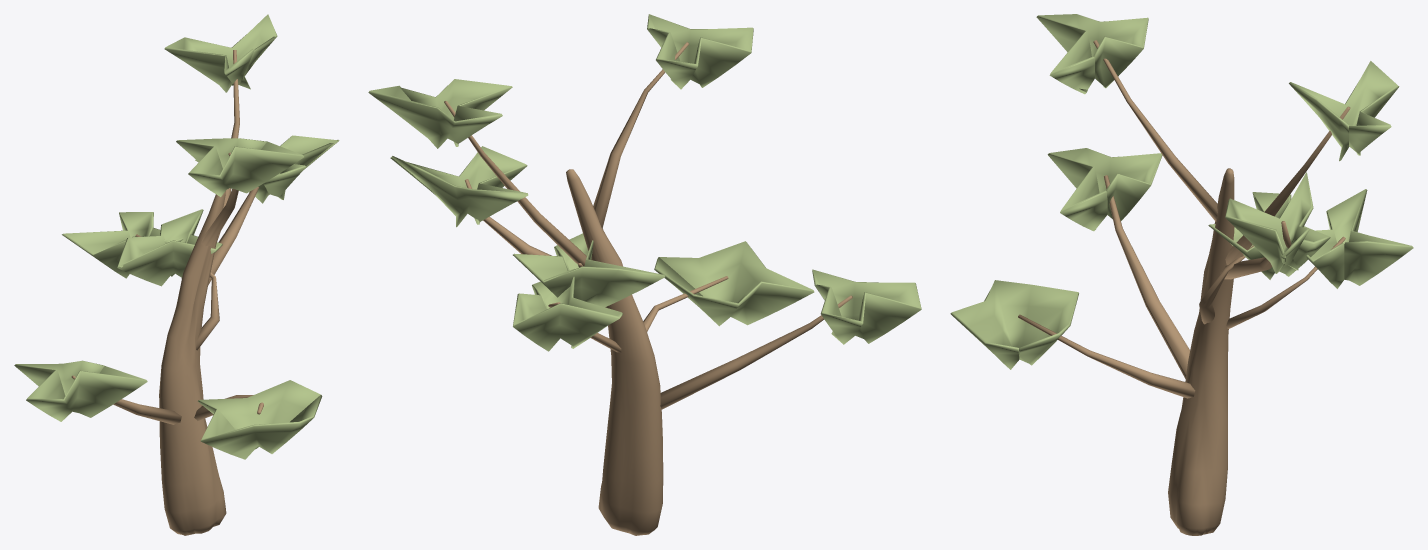
Rendered from tree.glb.
3 renders of one model, left to right at view 1: azimuth 30°, elevation 25°; view 2: azimuth 150°, elevation 25°; view 3: azimuth 270°, elevation 25°, orthographic. The views are drawn at different scales.
Visible parts, largest first — view 1: Trunk, Leaf4, Leaf0, Leaf3, Leaf1, Leaf6, Leaf5, Leaf2, Branch2, Branch0, Branch3, Branch1 (+1 smaller); view 2: Trunk, Leaf4, Leaf6, Leaf0, Leaf3, Leaf1, Leaf2, Leaf5, Branch0, Branch3, Branch6, Branch2; view 3: Trunk, Leaf4, Leaf0, Leaf3, Leaf5, Leaf6, Leaf2, Branch0, Leaf1, Branch3, Branch4, Branch6 (+3 smaller).
Part boxes in pixels (bbox=[...]): Trunk: bbox=[159, 191, 226, 535]; Leaf4: bbox=[197, 380, 322, 459]; Leaf0: bbox=[14, 360, 147, 421]; Leaf3: bbox=[176, 138, 303, 196]; Leaf1: bbox=[117, 209, 222, 286]; Leaf6: bbox=[164, 14, 277, 92]; Leaf5: bbox=[62, 212, 183, 278]; Leaf2: bbox=[195, 135, 339, 203]; Branch2: bbox=[208, 187, 258, 285]; Branch0: bbox=[71, 375, 181, 424]; Branch3: bbox=[201, 152, 238, 245]; Branch1: bbox=[196, 272, 219, 350]; Trunk: bbox=[566, 169, 663, 535]; Leaf4: bbox=[654, 241, 814, 326]; Leaf6: bbox=[368, 79, 512, 148]; Leaf0: bbox=[812, 269, 921, 344]; Leaf3: bbox=[647, 14, 753, 89]; Leaf1: bbox=[513, 233, 665, 307]; Leaf2: bbox=[390, 146, 528, 227]; Leaf5: bbox=[513, 268, 622, 351]; Branch0: bbox=[660, 295, 852, 409]; Branch3: bbox=[593, 42, 689, 228]; Branch6: bbox=[444, 101, 586, 266]; Branch2: bbox=[465, 179, 551, 255]; Trunk: bbox=[1168, 168, 1234, 535]; Leaf4: bbox=[950, 280, 1078, 369]; Leaf0: bbox=[1047, 148, 1162, 231]; Leaf3: bbox=[1036, 14, 1148, 94]; Leaf5: bbox=[1306, 189, 1413, 288]; Leaf6: bbox=[1289, 61, 1399, 161]; Leaf2: bbox=[1225, 172, 1313, 273]; Branch0: bbox=[1104, 175, 1189, 378]; Leaf1: bbox=[1208, 192, 1330, 279]; Branch3: bbox=[1093, 40, 1217, 221]; Branch4: bbox=[1018, 314, 1195, 398]; Branch6: bbox=[1225, 106, 1350, 265].
Bounding box in the file's own units: 2.48 × 2.51 × 2.13.
